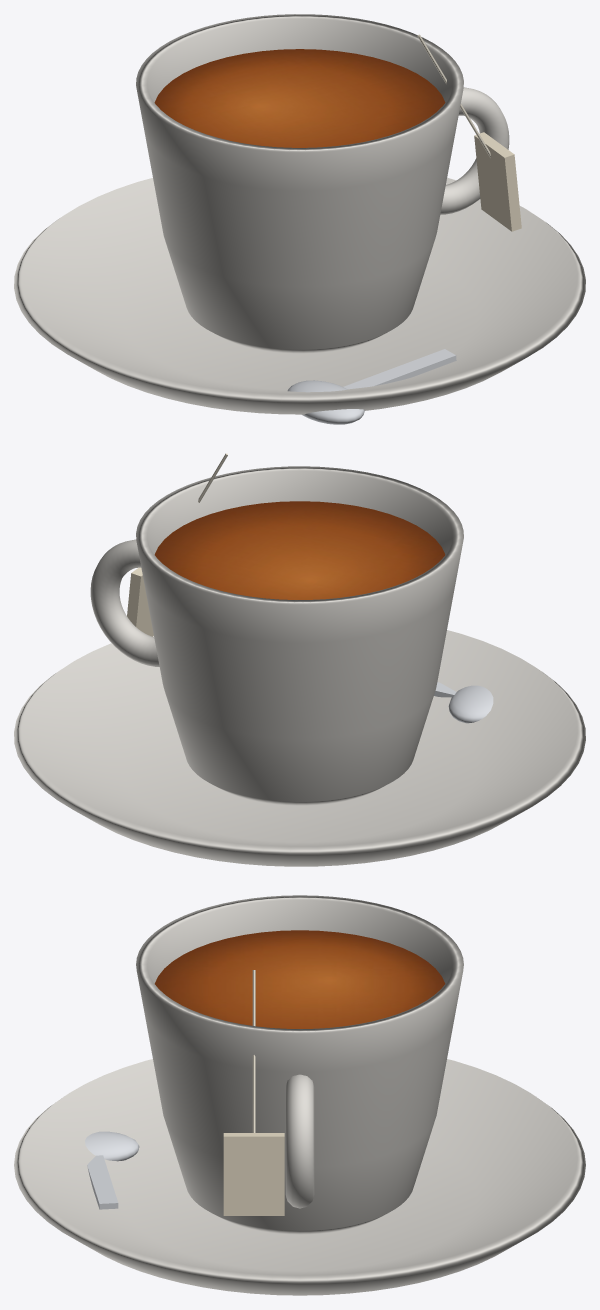
3 renders of one model, top to bottom at view 1: azimuth 30°, elevation 25°; view 2: azimuth 150°, elevation 25°; view 3: azimuth 270°, elevation 25°, orthographic.
Bounding box in the file's own units: 0.15 × 0.0841 × 0.15.
Materials: 6 (1 with a texture image).
